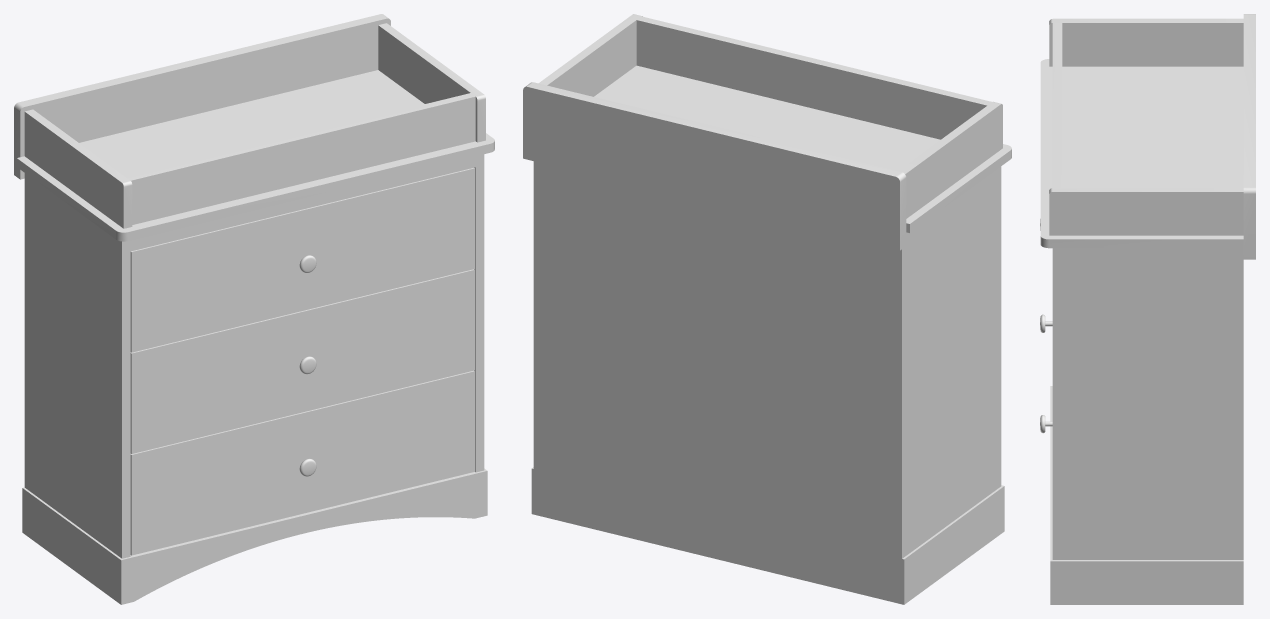
The model's file is white_changing_dresser.gltf.
The picture shows the model from 3 angles, left to right: view 1: azimuth 30°, elevation 25°; view 2: azimuth 150°, elevation 25°; view 3: azimuth 270°, elevation 25°; orthographic projection. The views are drawn at different scales.
Parts seen in each view (by area): view 1: Mesh; view 2: Mesh; view 3: Mesh.
Part boxes in pixels (box(x1,y1,x2,y2)): Mesh: box(14, 14, 494, 604); Mesh: box(523, 14, 1011, 604); Mesh: box(1040, 14, 1255, 604).
Bounding box in the file's own units: 0.8737 × 0.94 × 0.4413.
1 material, 1 textured.
